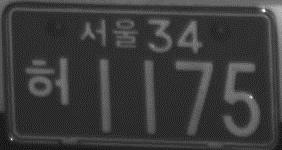1: (138, 58, 164, 133), (94, 55, 118, 133)
3: (146, 17, 171, 53)
4: (177, 18, 203, 52)
5: (220, 60, 262, 138)
7: (171, 58, 216, 136)
서울_O: (79, 17, 139, 50)
허: (26, 55, 70, 106)
